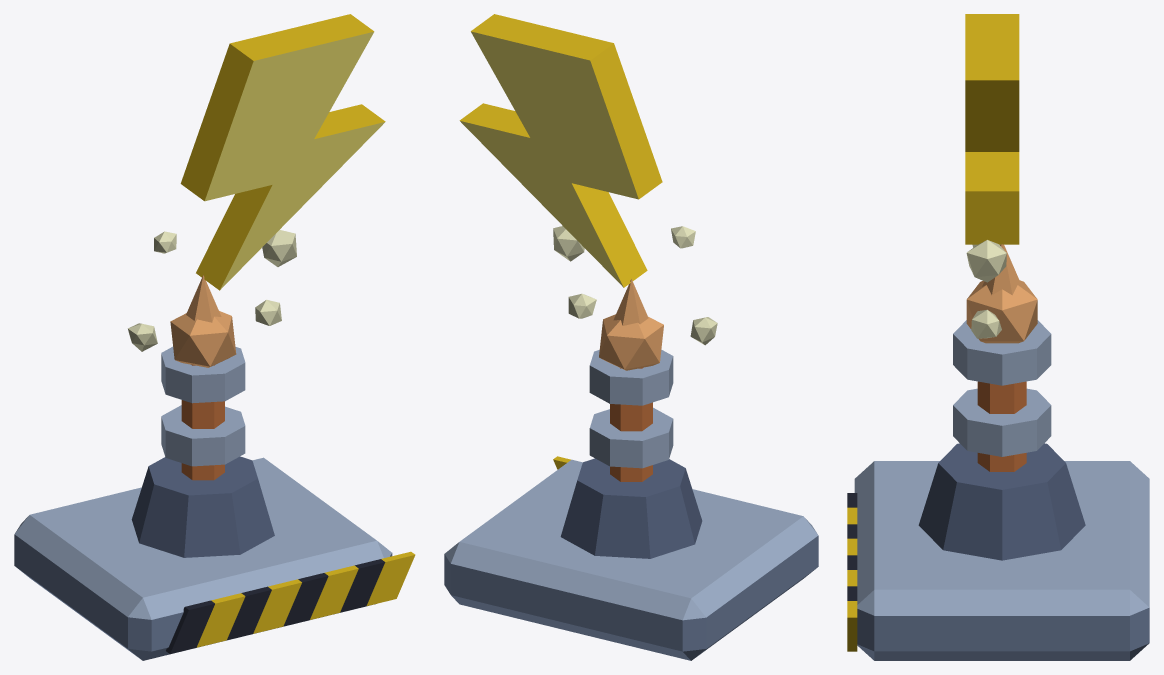
Rendered from habitat_prop_zap.fbx.
3 renders of one model, left to right at view 1: azimuth 30°, elevation 25°; view 2: azimuth 150°, elevation 25°; view 3: azimuth 270°, elevation 25°, orthographic. The views are drawn at different scales.
Visible parts, largest first — view 1: habitat_prop_zap; view 2: habitat_prop_zap; view 3: habitat_prop_zap.
Part boxes in pixels (<box>): habitat_prop_zap: <box>14,14,415,660</box>; habitat_prop_zap: <box>444,14,818,660</box>; habitat_prop_zap: <box>847,14,1149,660</box>.
Bounding box in the file's own units: 0.79 × 1.35 × 0.615.
